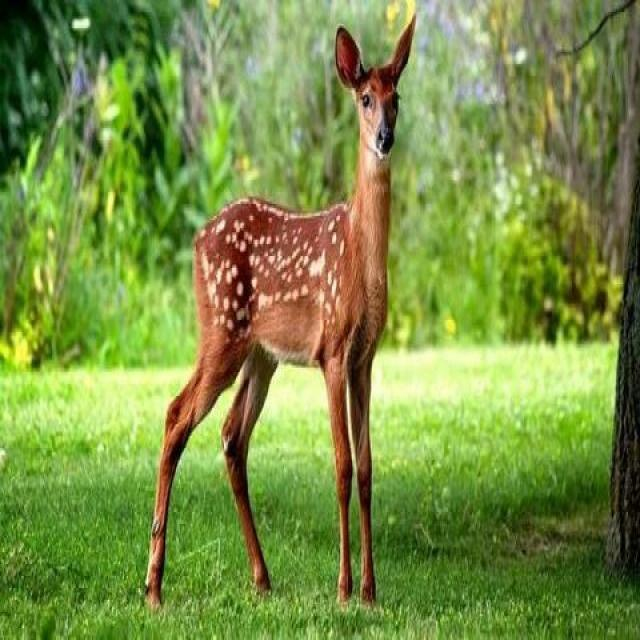deer: (157, 73, 447, 575)
